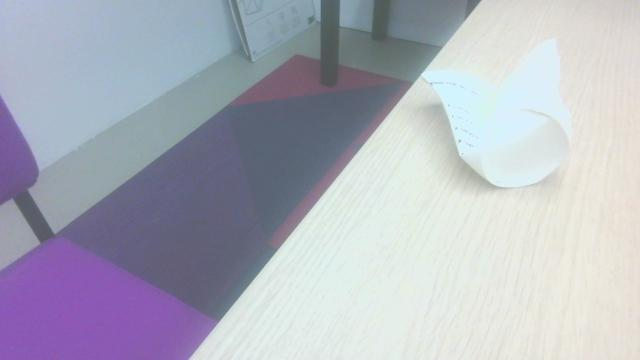cup: (417, 30, 583, 195)
